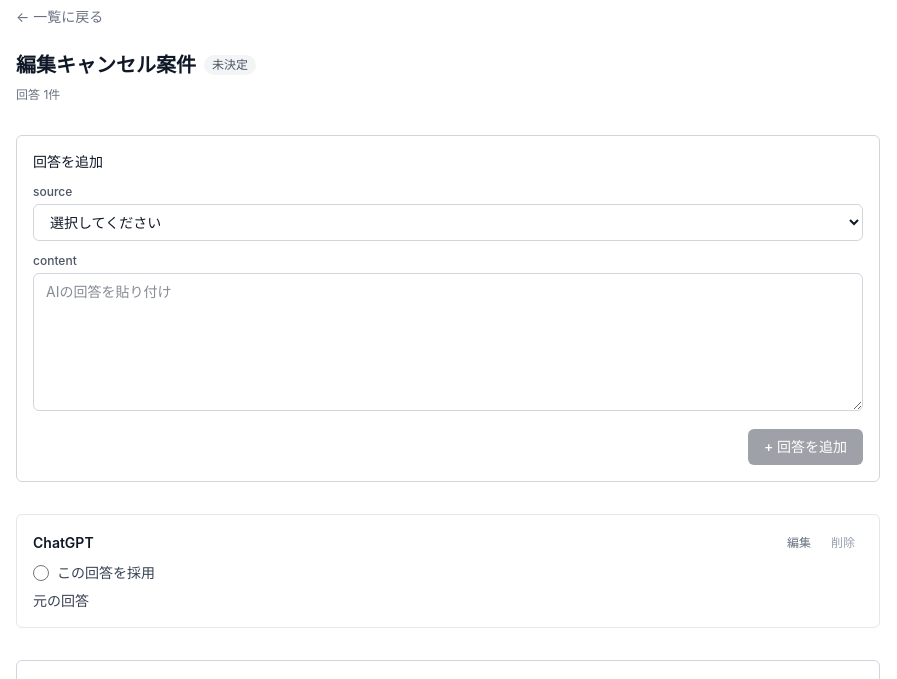
Test case: ProjectDetailScreen › 回答を編集してもキャンセルすれば変更されない
Step 1. Click the button named "を編集" → [799, 543], box [779, 531, 819, 555]
(page scrolled)
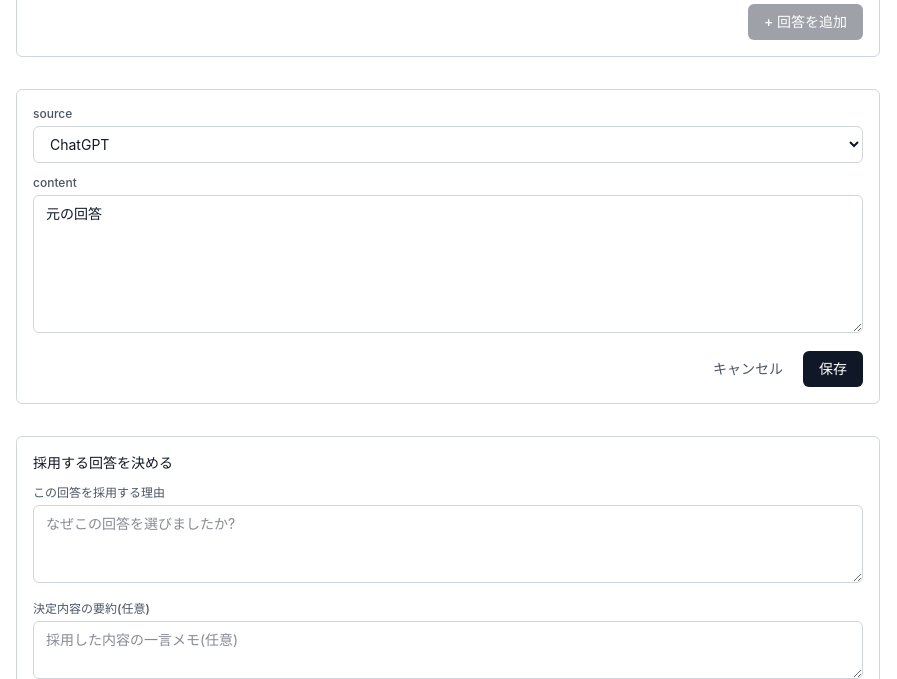
Step 2. Click the button "キャンセル" → [748, 369], box [701, 351, 795, 387]
(page scrolled)
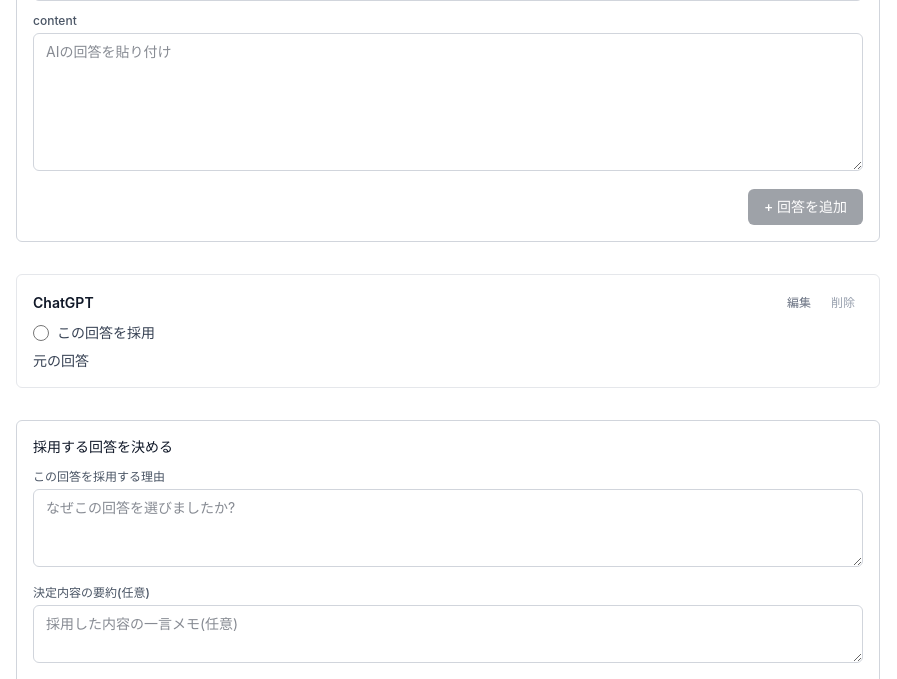
Result: the text "元の回答" is shown at [33, 352, 89, 369]
